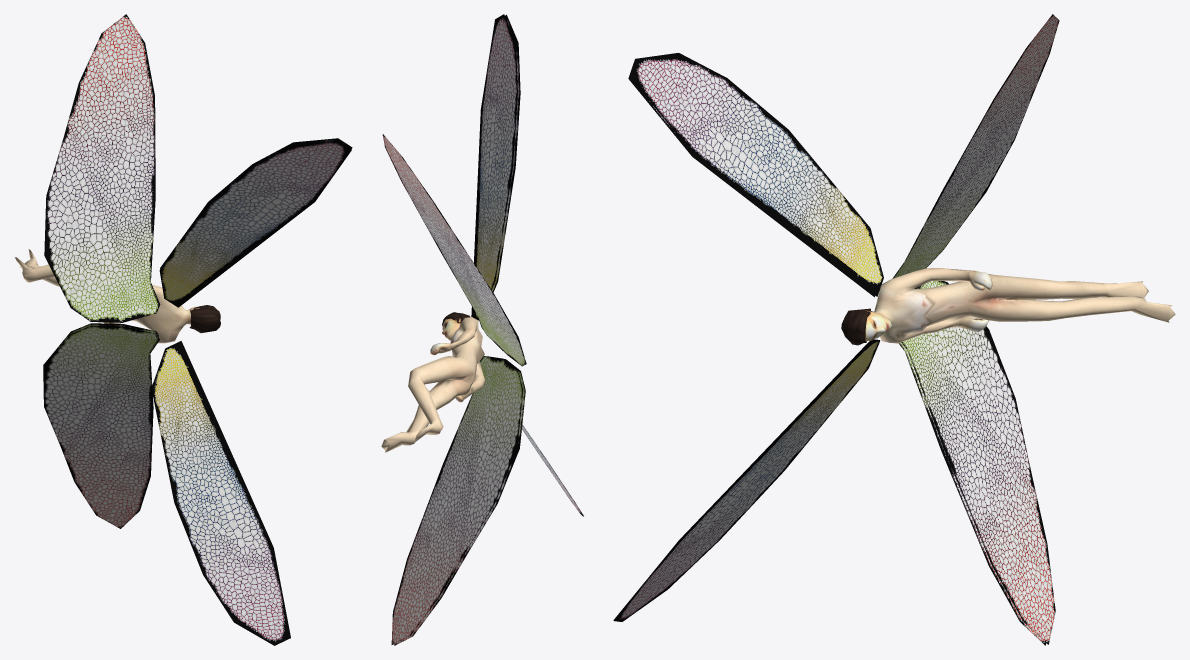
The model's file is angel_000008.obj.
The picture shows the model from 3 angles, left to right: view 1: azimuth 30°, elevation 25°; view 2: azimuth 150°, elevation 25°; view 3: azimuth 270°, elevation 25°; orthographic projection. The views are drawn at different scales.
Parts seen in each view (by area): view 1: Plane.002, Plane, Plane.001, Plane.003, body.001_omino.012, hair.003_omino.013; view 2: Plane.001, Plane.003, body.001_omino.012, Plane.002, Plane; view 3: Plane.001, Plane.003, body.001_omino.012, Plane.002, Plane, hair.003_omino.013.
Boxes of the visible parts, x1,y1,x2,y2 form: Plane.002: [44, 14, 160, 322]; Plane: [151, 341, 290, 645]; Plane.001: [43, 323, 159, 528]; Plane.003: [159, 138, 352, 307]; body.001_omino.012: [14, 249, 199, 343]; hair.003_omino.013: [189, 305, 220, 333]; Plane.001: [391, 356, 525, 645]; Plane.003: [471, 14, 520, 320]; body.001_omino.012: [381, 317, 485, 452]; Plane.002: [382, 134, 526, 366]; Plane: [522, 424, 583, 516]; Plane.001: [898, 281, 1055, 645]; Plane.003: [628, 53, 883, 297]; body.001_omino.012: [857, 268, 1175, 343]; Plane.002: [892, 14, 1059, 278]; Plane: [613, 339, 879, 621]; hair.003_omino.013: [841, 308, 873, 345].
Size of the model in its own units: 2.08 by 6.08 by 4.87.
